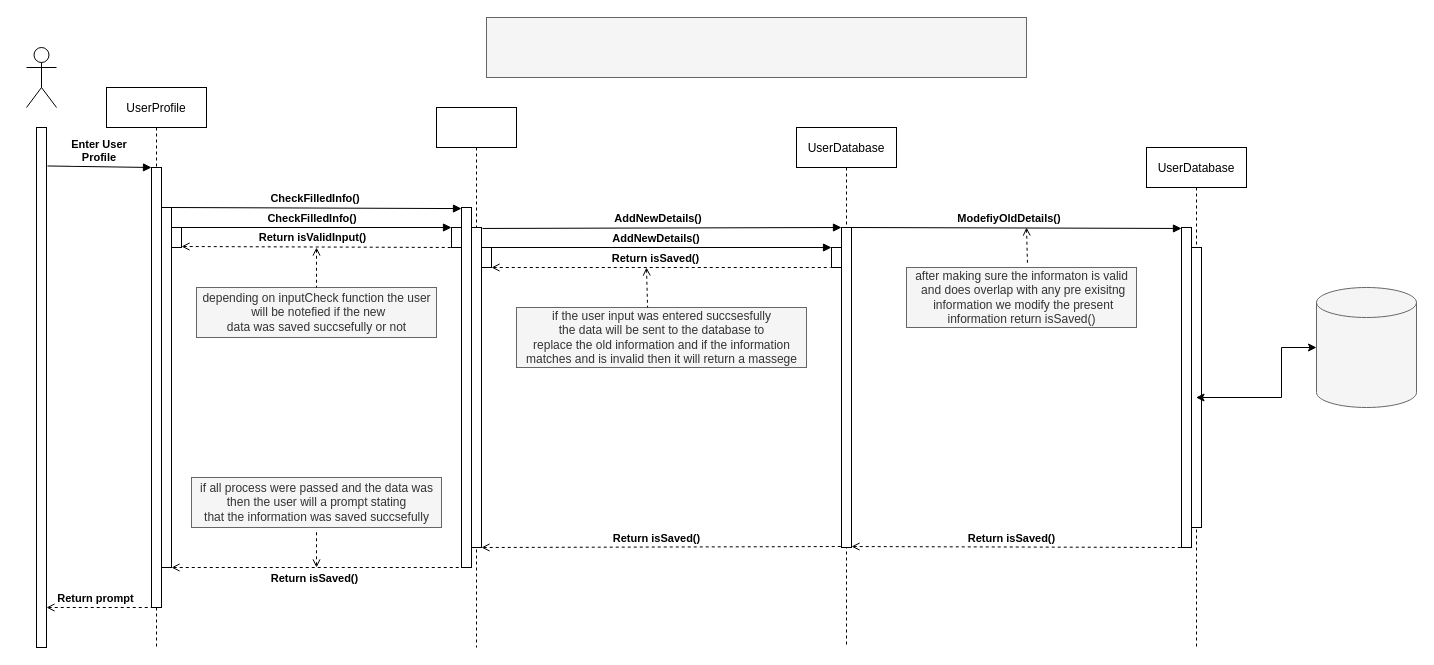
The diagram is 1434 pixels wide and 665 high, and some of its shapes have lost their labels. Each missing label, with the box of its shape:
InputCheck: (436, 106, 516, 648)
The User: (26, 46, 56, 108)
The User Details Editing/Saving Process In Tank Archi Site: (486, 16, 1026, 78)
User Database: (1316, 286, 1416, 408)
